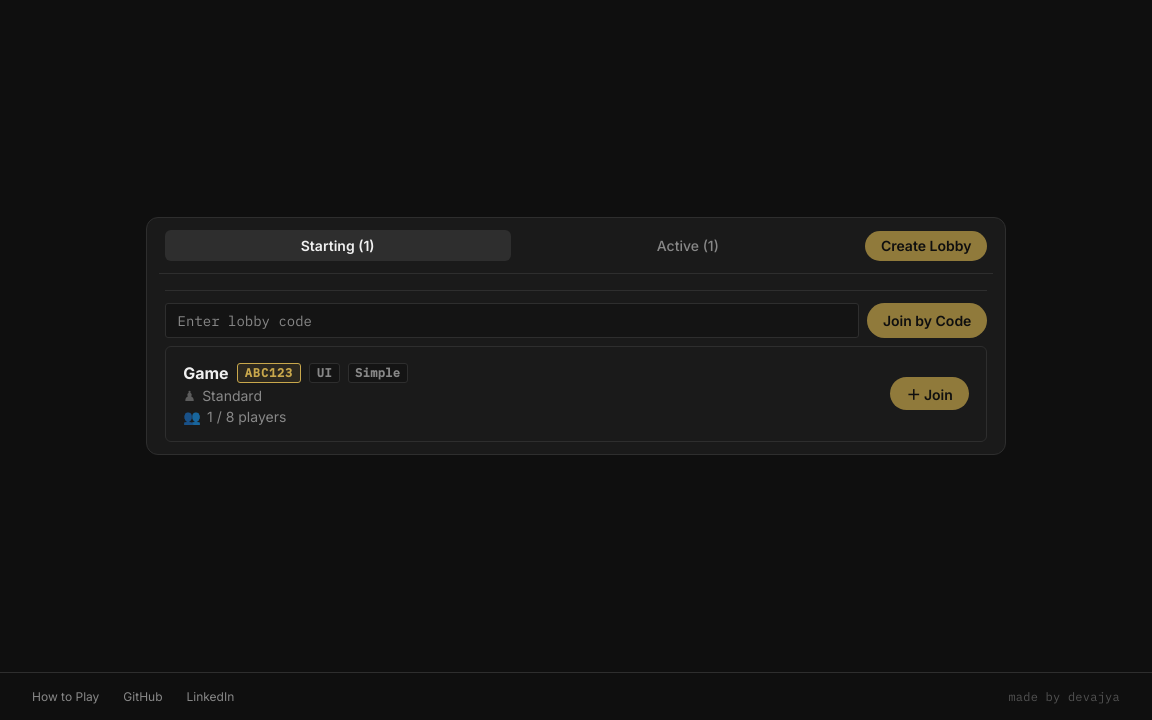
Test: LobbyBrowser — Active tab › Active tab shows in-progress lobbies
Check: the text "ABC123" is shown, box [237,363,301,383]
Click the tab "Active (1)": (688, 246) [515,230,861,261]
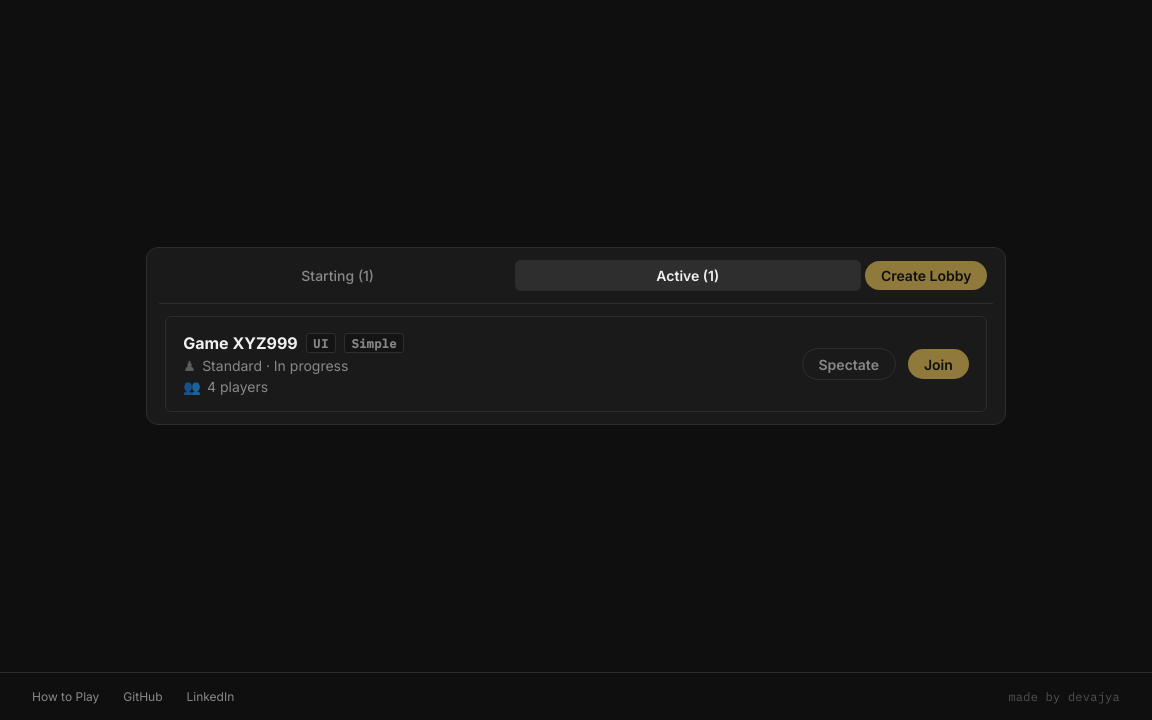
Check: the text "Game XYZ999" is shown, box [183,333,298,353]
